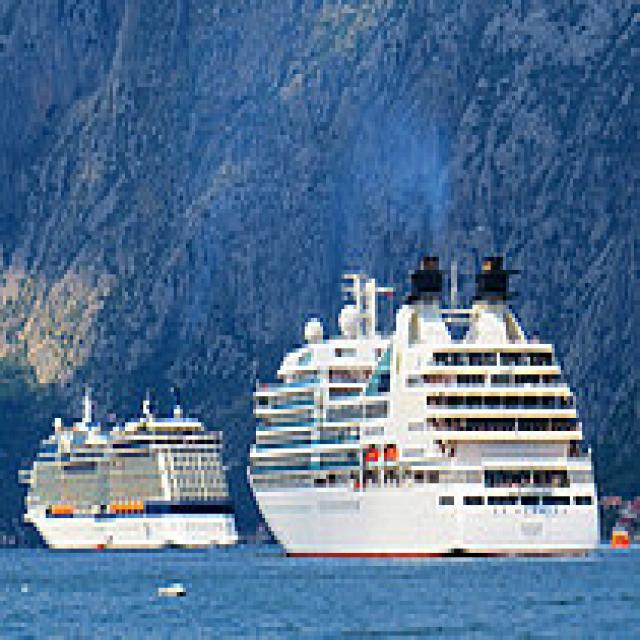Ship: (251, 241, 614, 576), (7, 380, 251, 563)
